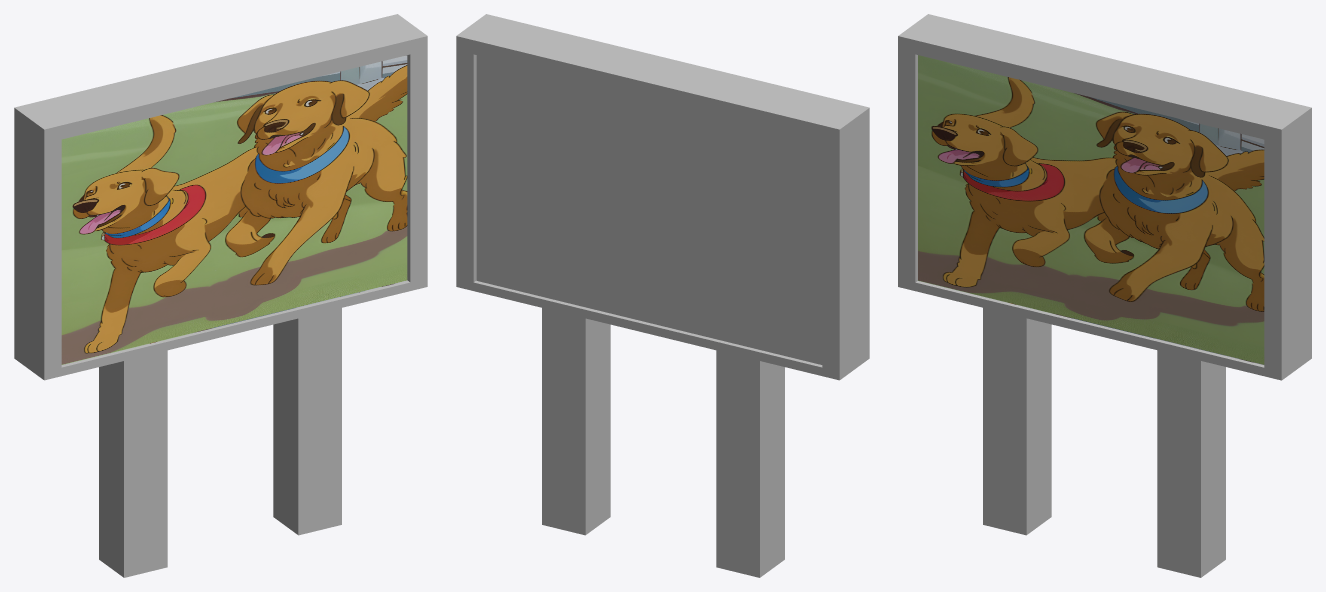
File: DogsWalkText.fbx
3 renders of one model, left to right at view 1: azimuth 30°, elevation 25°; view 2: azimuth 150°, elevation 25°; view 3: azimuth 330°, elevation 25°, orthographic.
Visible parts, largest first — view 1: pCube3, polySurface1, pCube2, pCube1; view 2: pCube3, polySurface1, pCube2, pCube1; view 3: pCube3, polySurface1, pCube1, pCube2.
Boxes of the visible parts, x1,y1,x2,y2 form: pCube3: (61,55,407,364); polySurface1: (14,14,427,380); pCube2: (99,350,167,577); pCube1: (273,308,341,535); pCube3: (476,55,822,364); polySurface1: (456,14,869,380); pCube2: (716,350,784,577); pCube1: (542,308,610,535); pCube3: (918,55,1264,364); polySurface1: (898,14,1311,380); pCube1: (1157,350,1225,577); pCube2: (983,308,1051,535).
Size of the model in its own units: 8.8 by 10.31 by 1.2.
